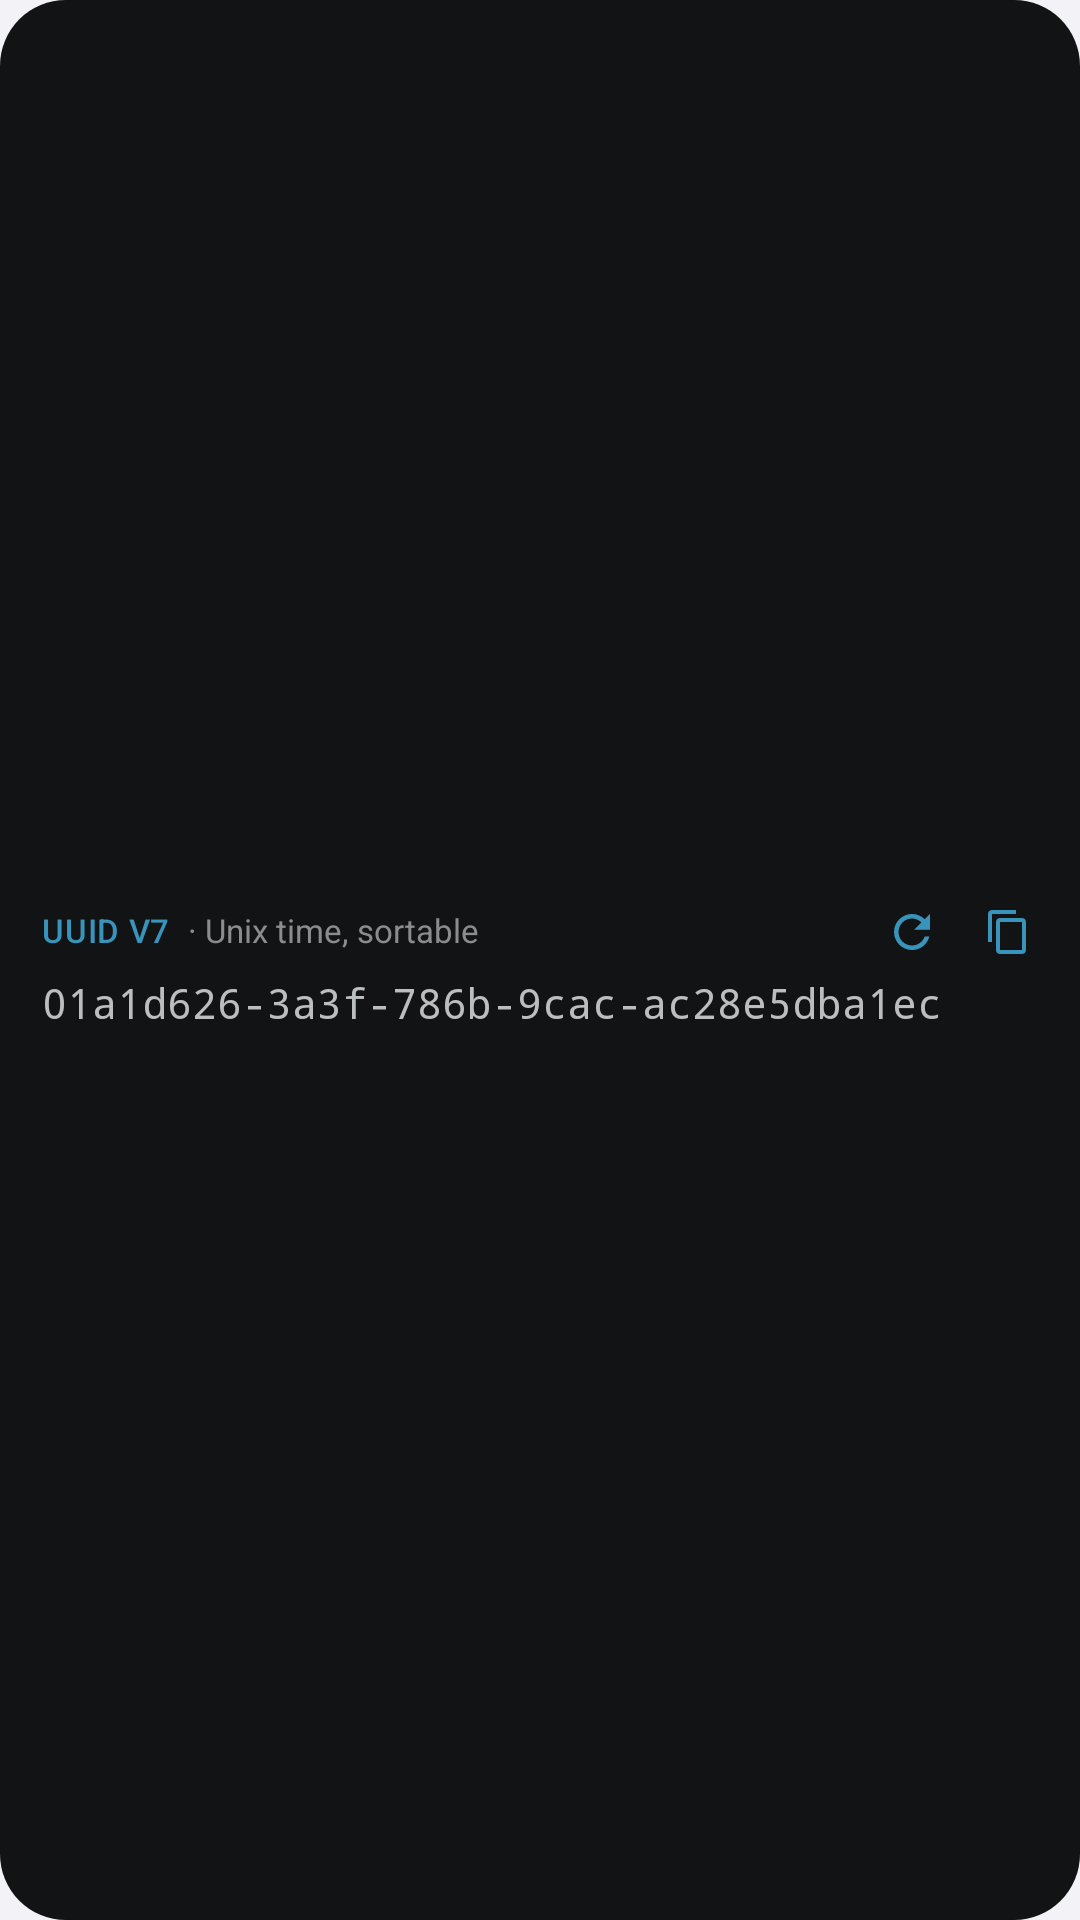

Named icons in this screenshot (1080×1920) and their centers, (x=x, y=y):
Copy: (x=1007, y=932)
Generate: (x=912, y=932)
